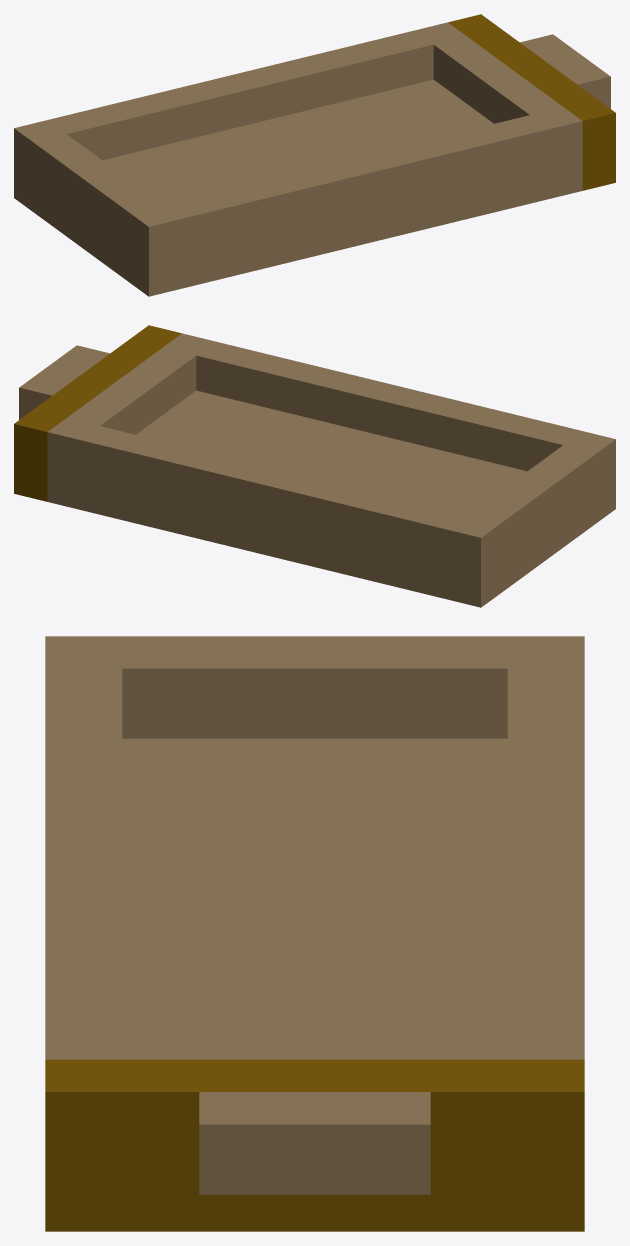
Rendered from Desk00-Drawer.gltf.
3 renders of one model, top to bottom at view 1: azimuth 30°, elevation 25°; view 2: azimuth 150°, elevation 25°; view 3: azimuth 270°, elevation 25°, orthographic. The views are drawn at different scales.
Size of the model in its own units: 15 by 2 by 7.
